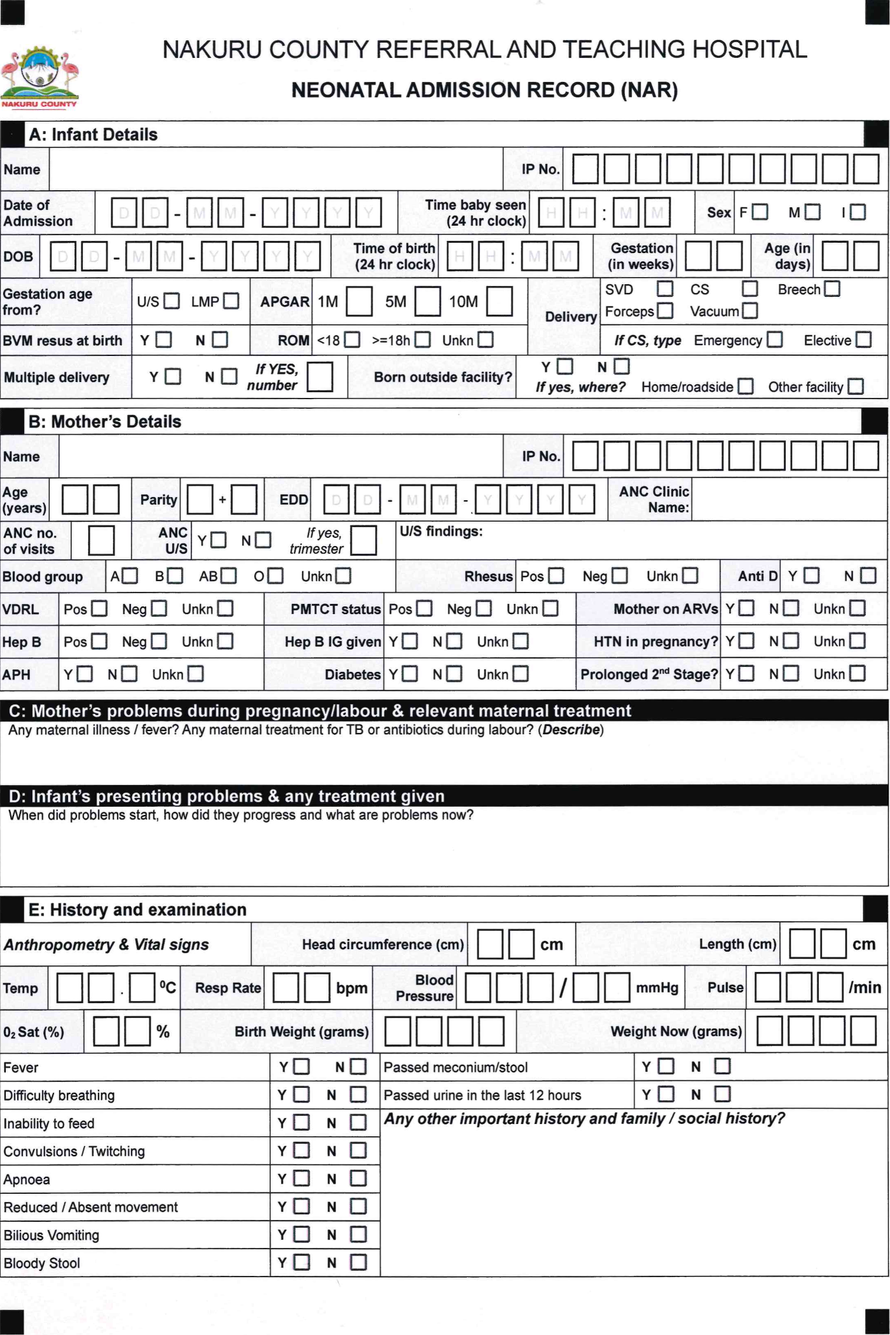mask: (95, 32, 861, 64), (50, 151, 501, 189), (61, 437, 501, 475), (565, 149, 886, 188), (565, 437, 886, 476), (694, 480, 886, 519), (1, 36, 84, 114)
